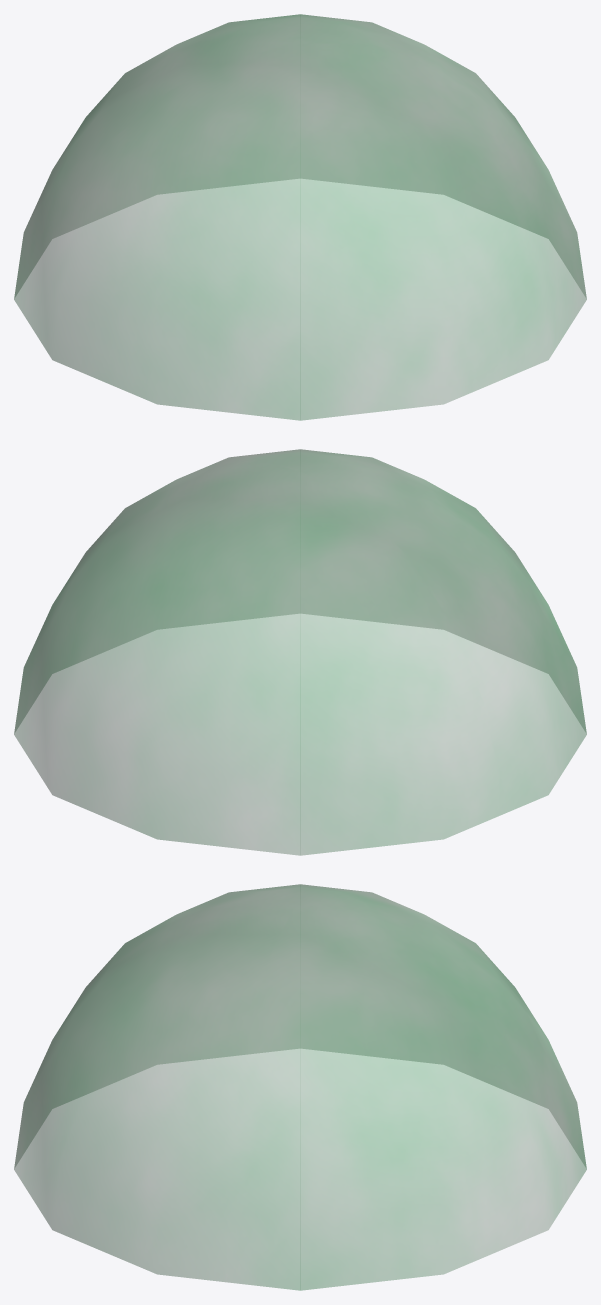
The model's file is effect.fbx.
The picture shows the model from 3 angles, top to bottom: view 1: azimuth 30°, elevation 25°; view 2: azimuth 150°, elevation 25°; view 3: azimuth 270°, elevation 25°; orthographic projection.
Parts seen in each view (by area): view 1: pSphere1; view 2: pSphere1; view 3: pSphere1.
Part boxes in pixels (left/top/right/bottom): pSphere1: left=14, top=14, right=586, bottom=420; pSphere1: left=14, top=449, right=586, bottom=855; pSphere1: left=14, top=884, right=586, bottom=1290.
Bounding box in the file's own units: 360 × 180 × 360.
